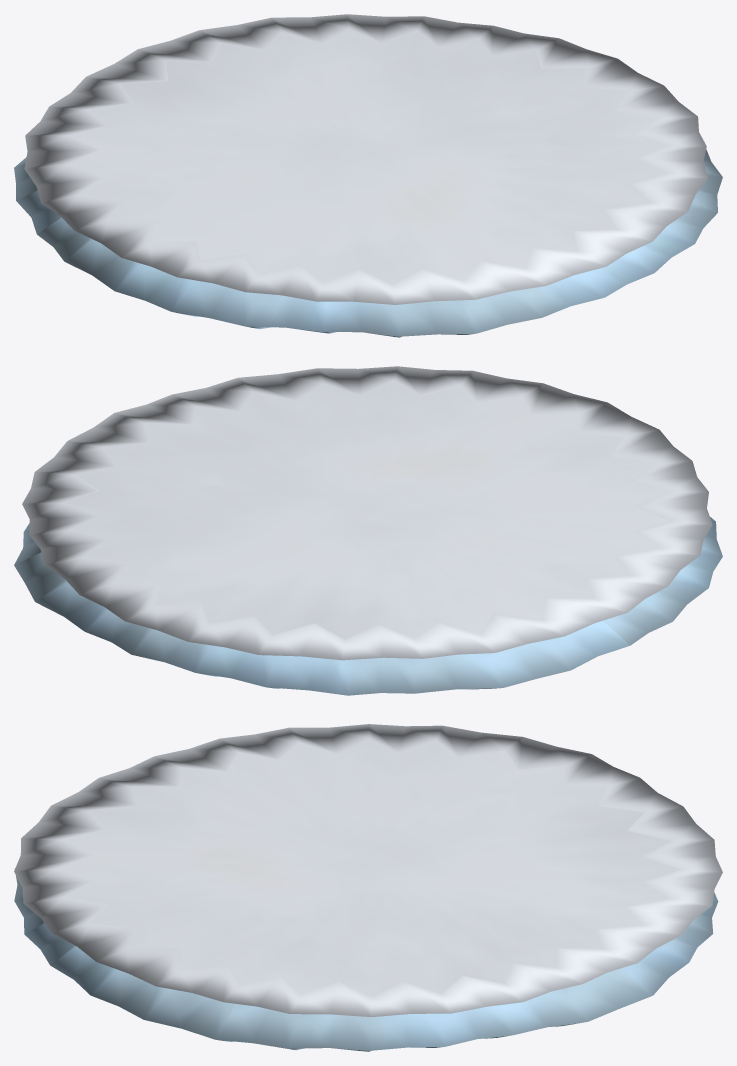
Rendered from ice_floe_m.fbx.
3 views of the same model, one above another, from view 1: azimuth 30°, elevation 25°; view 2: azimuth 150°, elevation 25°; view 3: azimuth 270°, elevation 25° (orthographic).
Visible parts, largest first — view 1: ice_floe_m; view 2: ice_floe_m; view 3: ice_floe_m.
Part boxes in pixels (bbox=[...]): ice_floe_m: bbox=[14, 14, 722, 337]; ice_floe_m: bbox=[14, 366, 722, 695]; ice_floe_m: bbox=[14, 724, 722, 1051].
Bounding box in the file's own units: 598 × 67.23 × 600.
